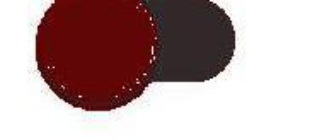Switch: (1, 1, 316, 139)
